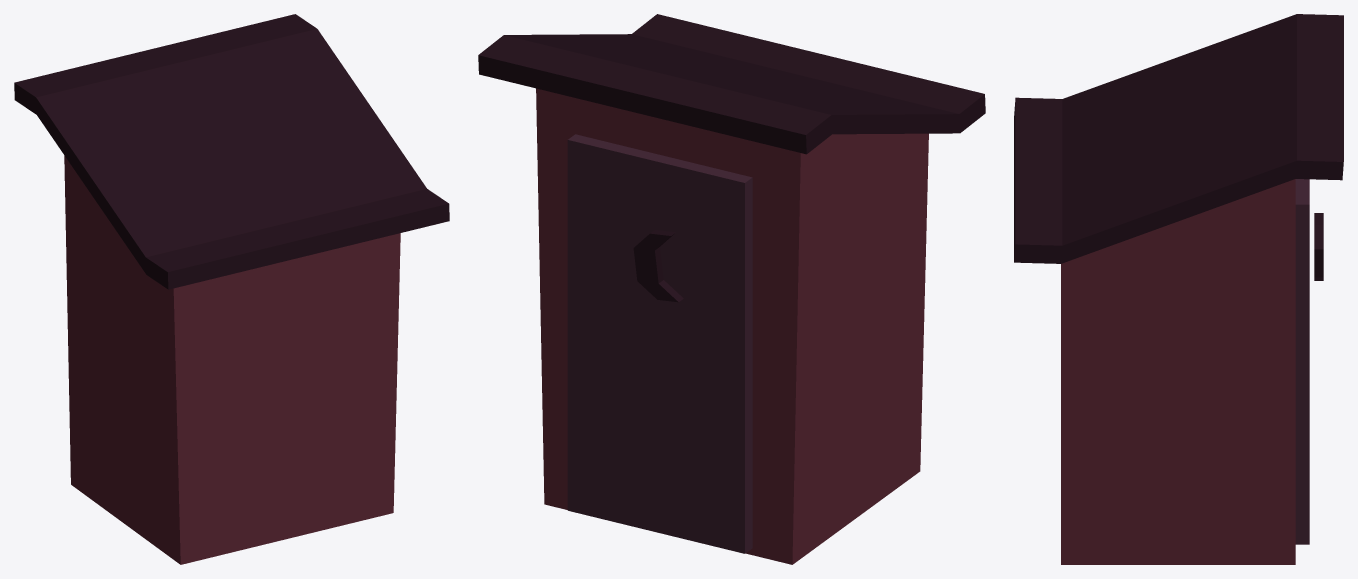
File: outhouse_1.obj
The picture shows the model from 3 angles, left to right: view 1: azimuth 30°, elevation 25°; view 2: azimuth 150°, elevation 25°; view 3: azimuth 270°, elevation 25°; orthographic projection. The views are drawn at different scales.
Parts seen in each view (by area): view 1: building; view 2: building, front door, decoration; view 3: building, front door, decoration.
Part boxes in pixels (x1,y1,x2,y2): building: [14, 14, 449, 564]; building: [478, 14, 985, 564]; front door: [567, 134, 752, 553]; decoration: [633, 230, 683, 302]; building: [1014, 14, 1343, 564]; front door: [1295, 179, 1309, 544]; decoration: [1314, 213, 1323, 280].
Size of the model in its own units: 0.4625 by 0.6205 by 0.4392.
Materials: 1 (1 with a texture image).
